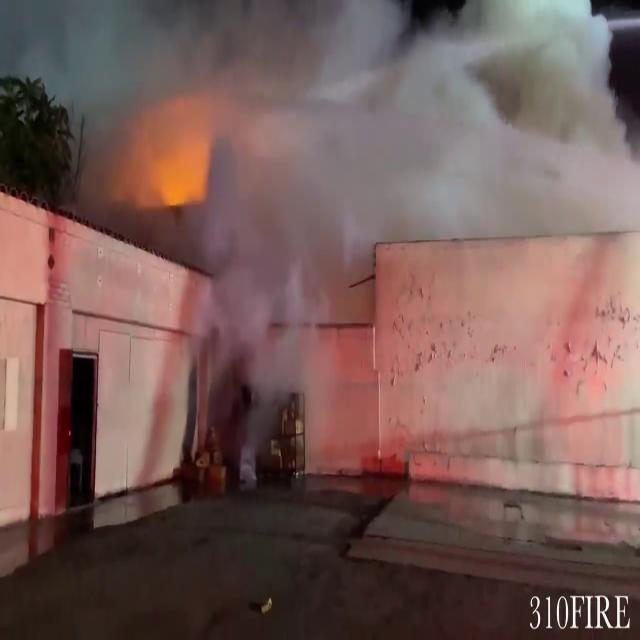Smoke: (103, 0, 640, 270)
